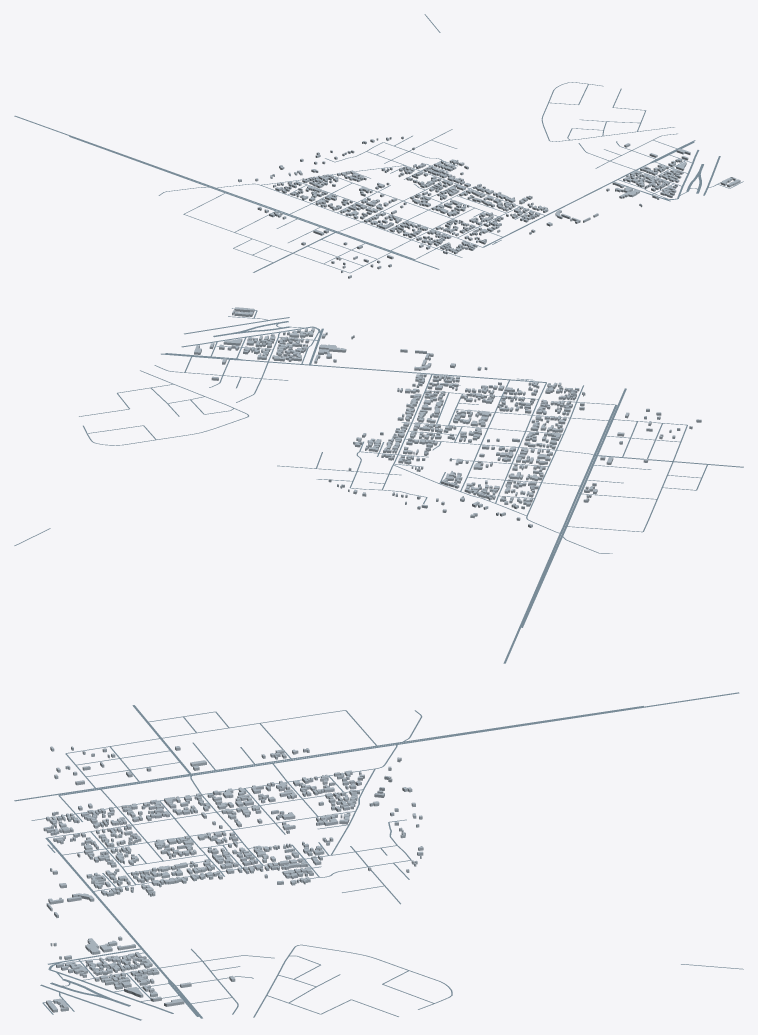
3 renders of one model, top to bottom at view 1: azimuth 30°, elevation 25°; view 2: azimuth 150°, elevation 25°; view 3: azimuth 270°, elevation 25°, orthographic. The views are drawn at different scales.
Bounding box in the file's own units: 2081 × 8 × 1955.
